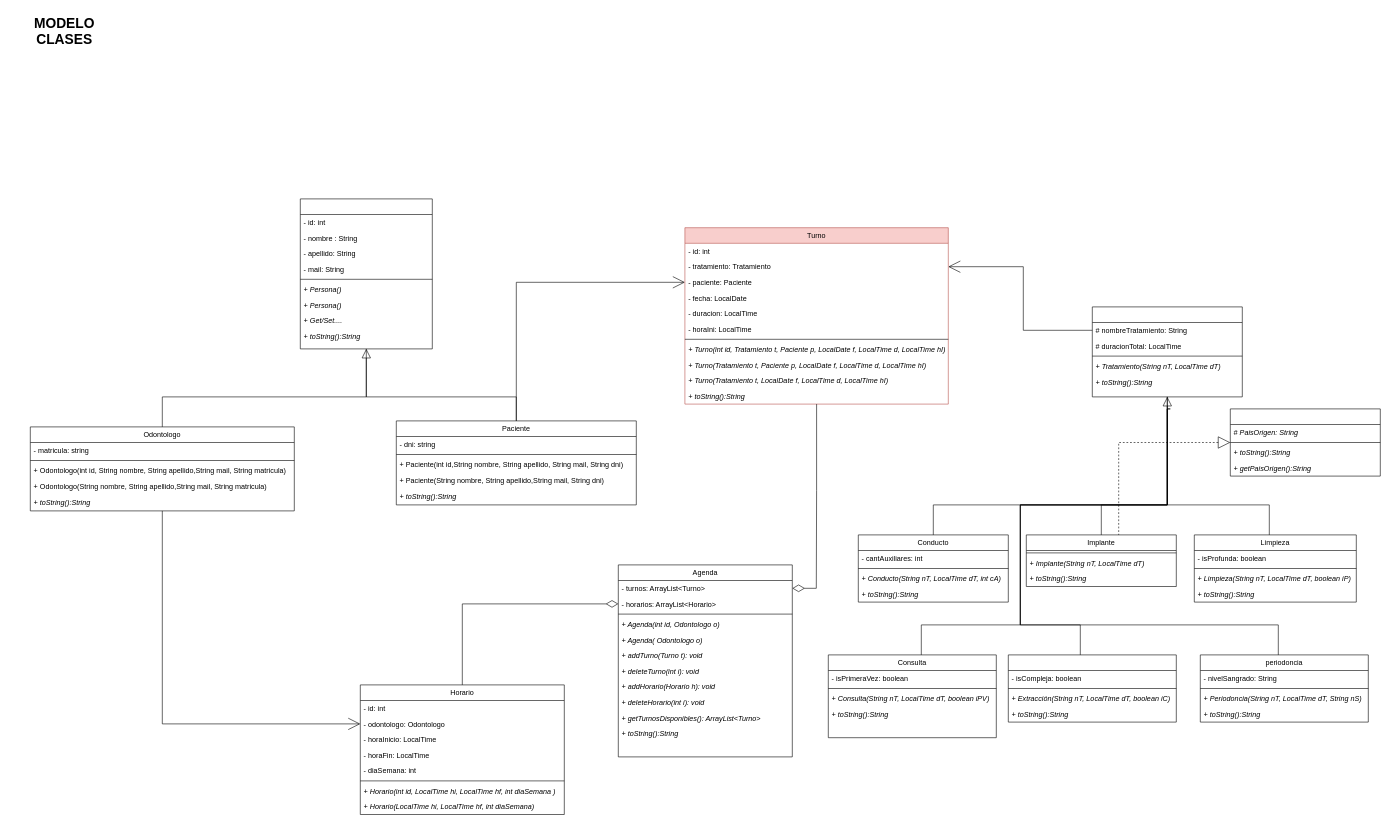
This 1391x826 diagram has some shape labels left out. Here are the shapes that lost their labels. From the top down, the box of each, then its label:
(300, 198, 432, 349): abstract Persona
(1092, 306, 1242, 397): abstract Tratamiento
(1230, 408, 1380, 476): interface ImplanteGenerico
(1008, 654, 1176, 722): Extraccion
